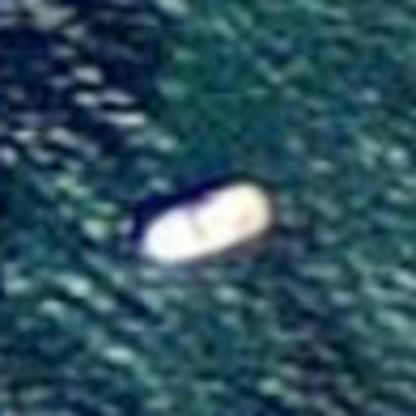ship: (126, 168, 288, 272)
